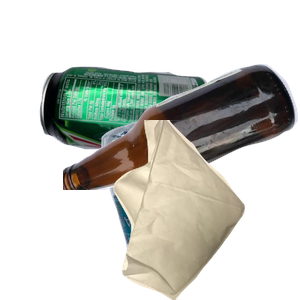glass: (63, 62, 300, 242)
metal: (37, 64, 245, 214)
plastic: (99, 120, 289, 300)
trash: (111, 120, 300, 300)
